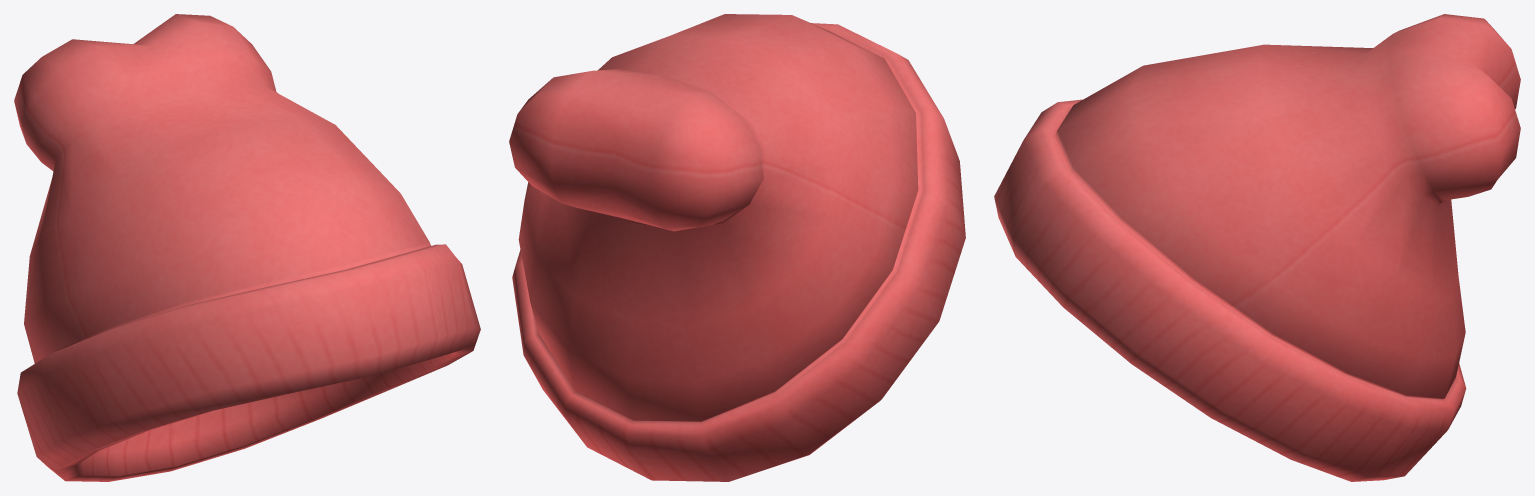
3 views of the same model, side by side, from view 1: azimuth 30°, elevation 25°; view 2: azimuth 150°, elevation 25°; view 3: azimuth 270°, elevation 25° (orthographic). The views are drawn at different scales.
Visible parts, largest first — view 1: model_3; view 2: model_3; view 3: model_3.
Part boxes in pixels (<box>): model_3: <box>14,14,480,481</box>; model_3: <box>509,14,965,481</box>; model_3: <box>994,14,1520,481</box>.
Bounding box in the file's own units: 0.875 × 0.8977 × 1.03.
Materials: 1 (1 with a texture image).
